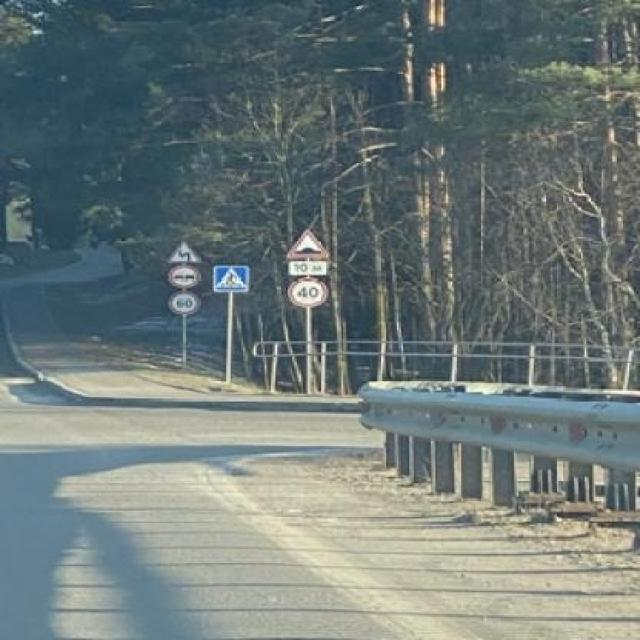forb_speed_over_40: (289, 276, 329, 307)
forb_speed_over_60: (169, 292, 197, 314)
